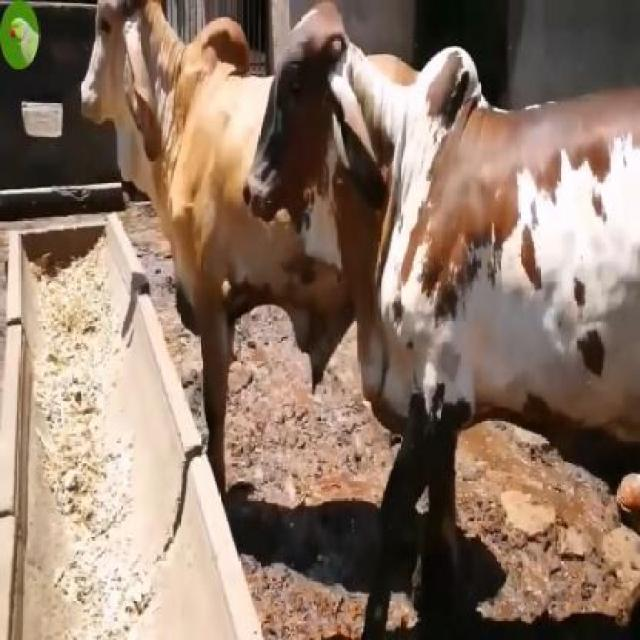Cow: (244, 1, 638, 638)
